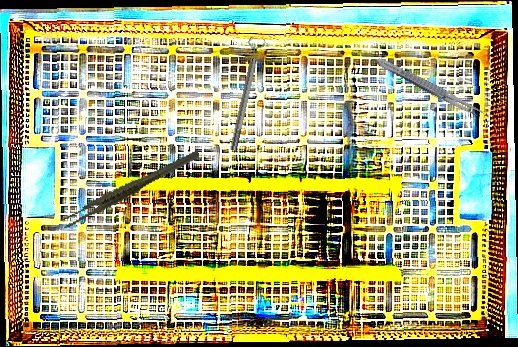Dressing Forceps: (372, 54, 488, 121)
Fixation Ring: (223, 35, 268, 153)
Tissue Forceps: (53, 148, 209, 230)
